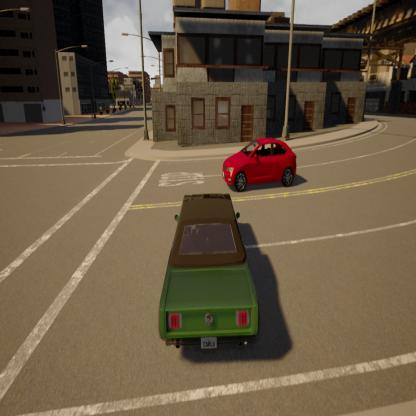Cars: (152, 182, 266, 361), (213, 119, 301, 194)
